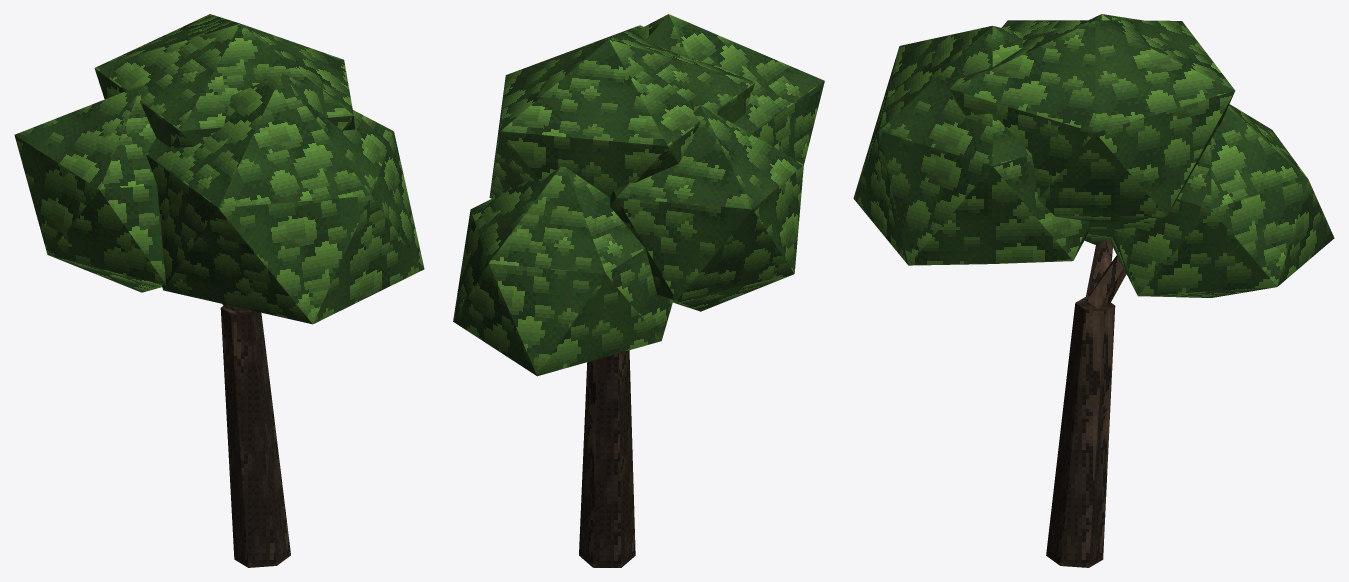
The model's file is arbol_roble_2.obj.
The picture shows the model from 3 angles, left to right: view 1: azimuth 30°, elevation 25°; view 2: azimuth 150°, elevation 25°; view 3: azimuth 270°, elevation 25°; orthographic projection.
Parts seen in each view (by area): view 1: arbol_roble_2; view 2: arbol_roble_2; view 3: arbol_roble_2.
Part boxes in pixels (x1=…): arbol_roble_2: x1=14, y1=14, x2=424, y2=567; arbol_roble_2: x1=453, y1=14, x2=824, y2=567; arbol_roble_2: x1=853, y1=14, x2=1334, y2=567.
Bounding box in the file's own units: 2.62 × 4.53 × 3.7.
Materials: 2 (2 with a texture image).
